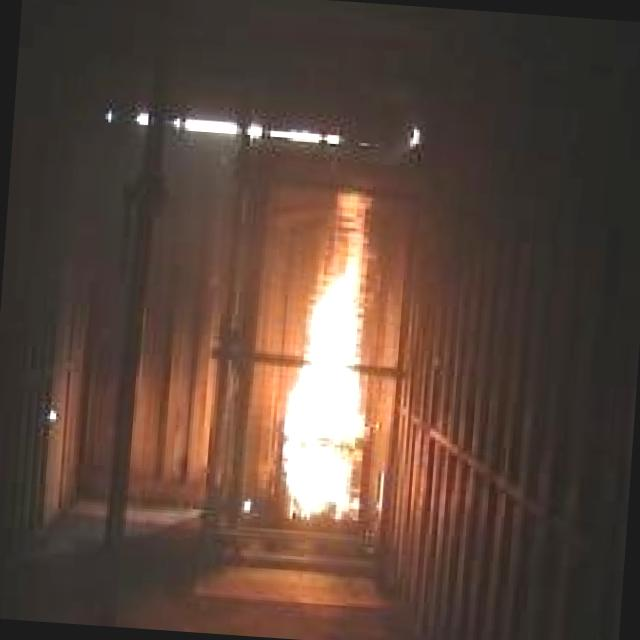fire: (280, 206, 399, 532)
